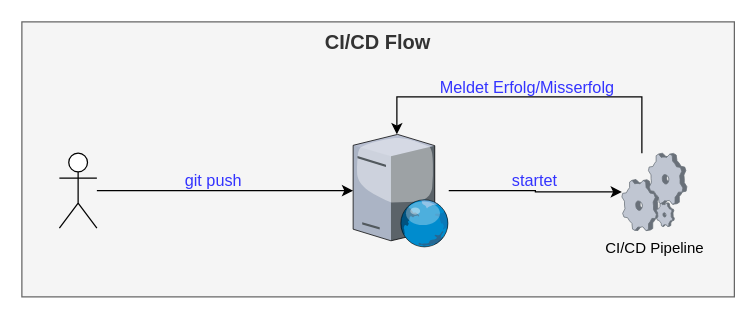
Some shapes in this 756 by 319 pixel diagram are drawn without their labels. The shapes that lost their labels are listed below. From the top down, each one's centre as x and y in pixels, then its label:
At point (77, 190): "Developer".
At point (400, 190): "GitHub".
